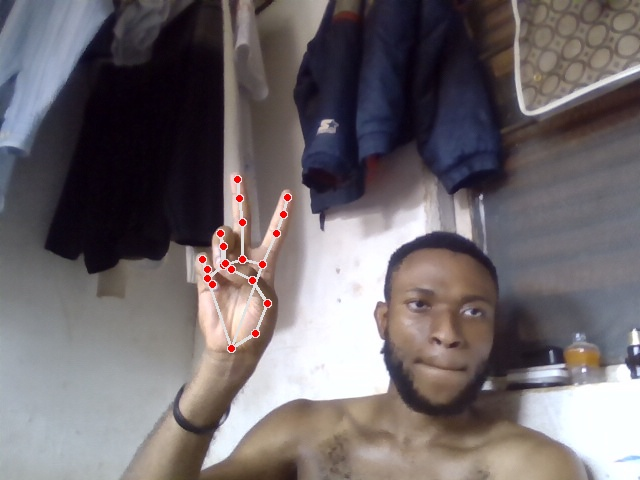peace: (194, 173, 294, 361)
